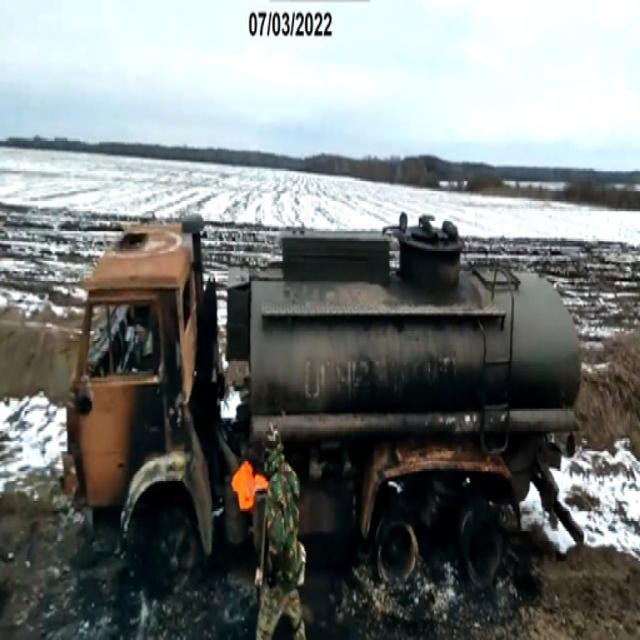TRUCK: (71, 205, 586, 602)
